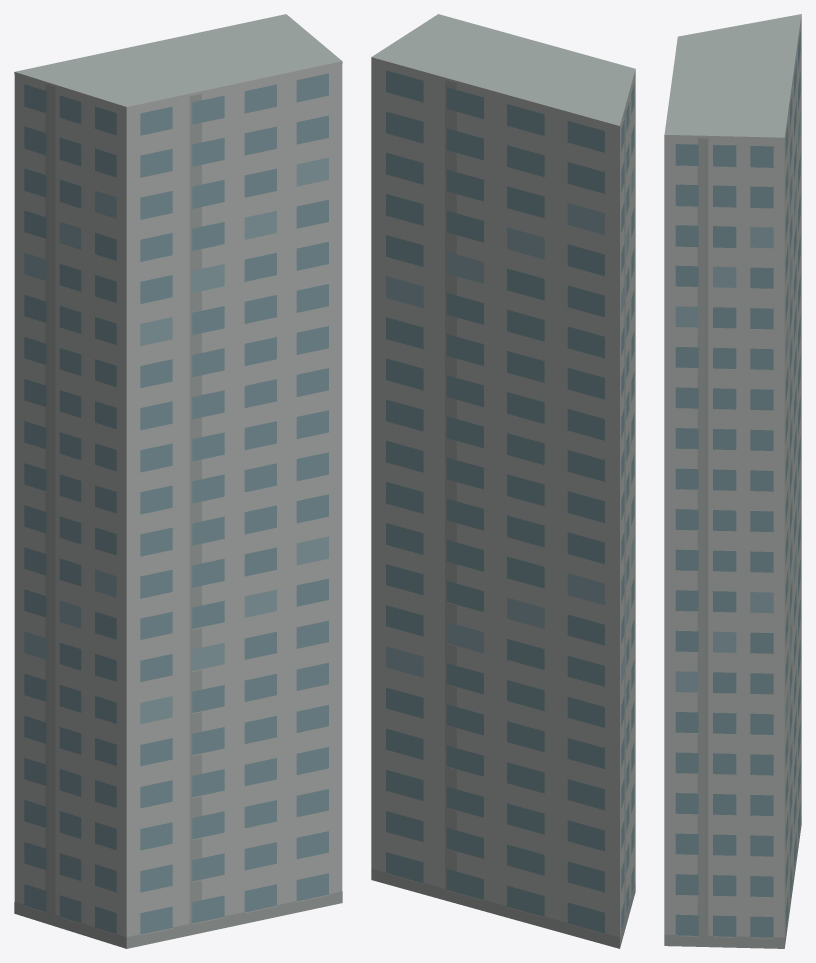
The model's file is residential-48706524-0373-4ea0-b81d-e0ea3304c81d.glb.
3 renders of one model, left to right at view 1: azimuth 30°, elevation 25°; view 2: azimuth 150°, elevation 25°; view 3: azimuth 270°, elevation 25°, orthographic. The views are drawn at different scales.
Visible parts, largest first — view 1: residential-48706524-0373-4ea0-b81d-e0ea3304c81d.tmp; view 2: residential-48706524-0373-4ea0-b81d-e0ea3304c81d.tmp; view 3: residential-48706524-0373-4ea0-b81d-e0ea3304c81d.tmp.
Boxes of the visible parts, <box> form: residential-48706524-0373-4ea0-b81d-e0ea3304c81d.tmp: <box>14,14,342,948</box>; residential-48706524-0373-4ea0-b81d-e0ea3304c81d.tmp: <box>371,14,635,948</box>; residential-48706524-0373-4ea0-b81d-e0ea3304c81d.tmp: <box>664,14,801,948</box>.
Bounding box in the file's own units: 26.17 × 80 × 12.26.
